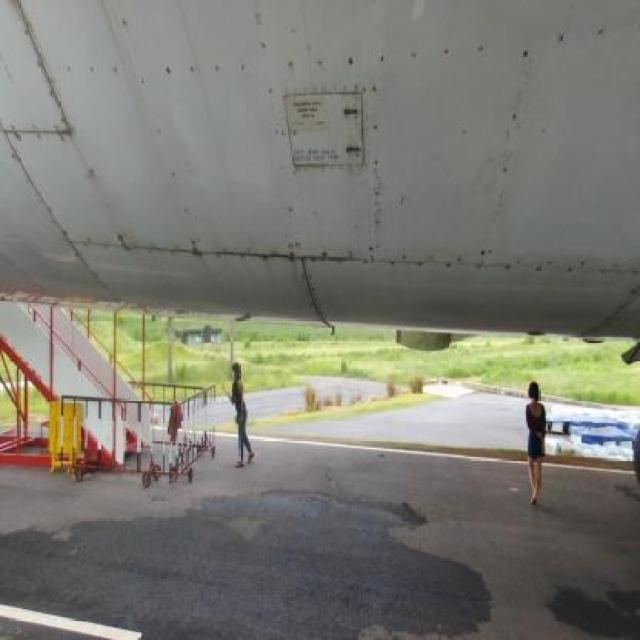Missing-Rivet: (59, 41, 542, 82), (478, 26, 553, 268), (339, 244, 616, 287)
Rust: (117, 224, 308, 311), (21, 3, 76, 135), (104, 2, 159, 115), (66, 130, 119, 224)
Scartch: (341, 100, 372, 180), (366, 168, 397, 242)
